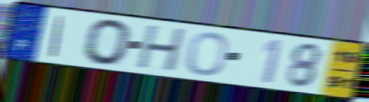1: (261, 38, 284, 85)
8: (285, 41, 325, 89)
H: (134, 24, 189, 74)
I: (47, 14, 66, 59)
O: (82, 18, 134, 67), (185, 31, 231, 77)
